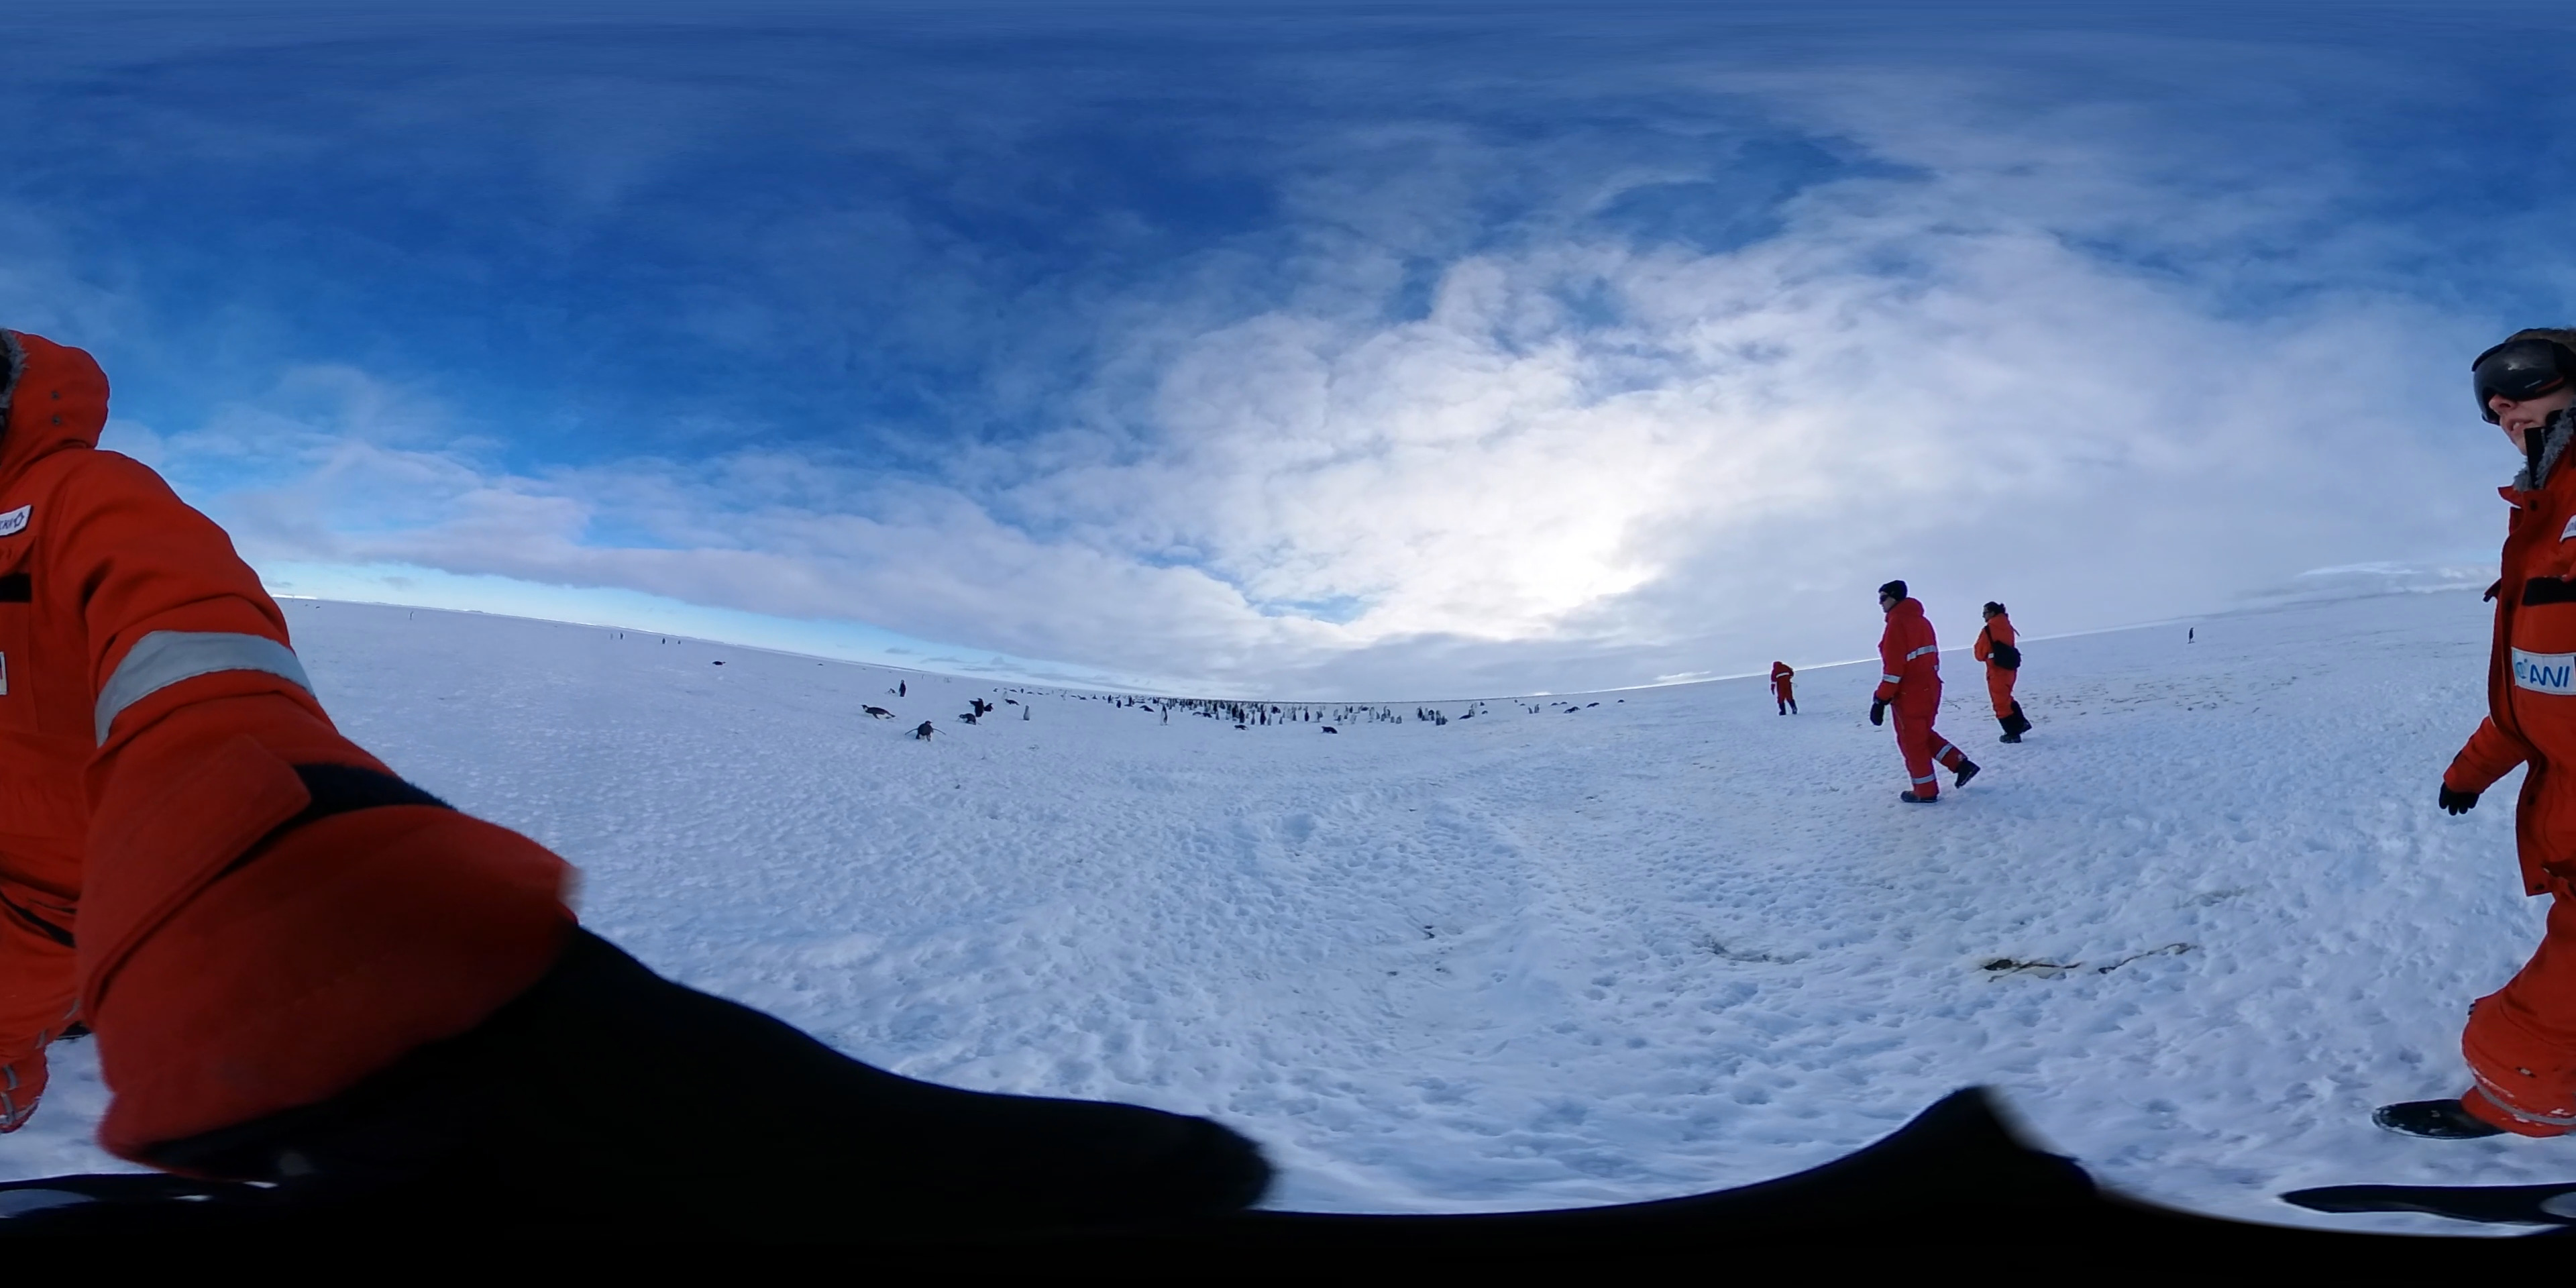adult_standing_penguin: (1157, 703, 1170, 726), (2187, 626, 2195, 644)
adult_toboggan_penguin: (900, 721, 948, 743), (861, 701, 899, 721), (956, 711, 982, 726), (1318, 724, 1339, 734), (1230, 723, 1250, 729)
juvenile_penguin: (1022, 705, 1032, 724)
researcher: (2362, 315, 2576, 1142), (1865, 577, 1981, 805), (1970, 598, 2039, 751), (1766, 659, 1805, 716)
